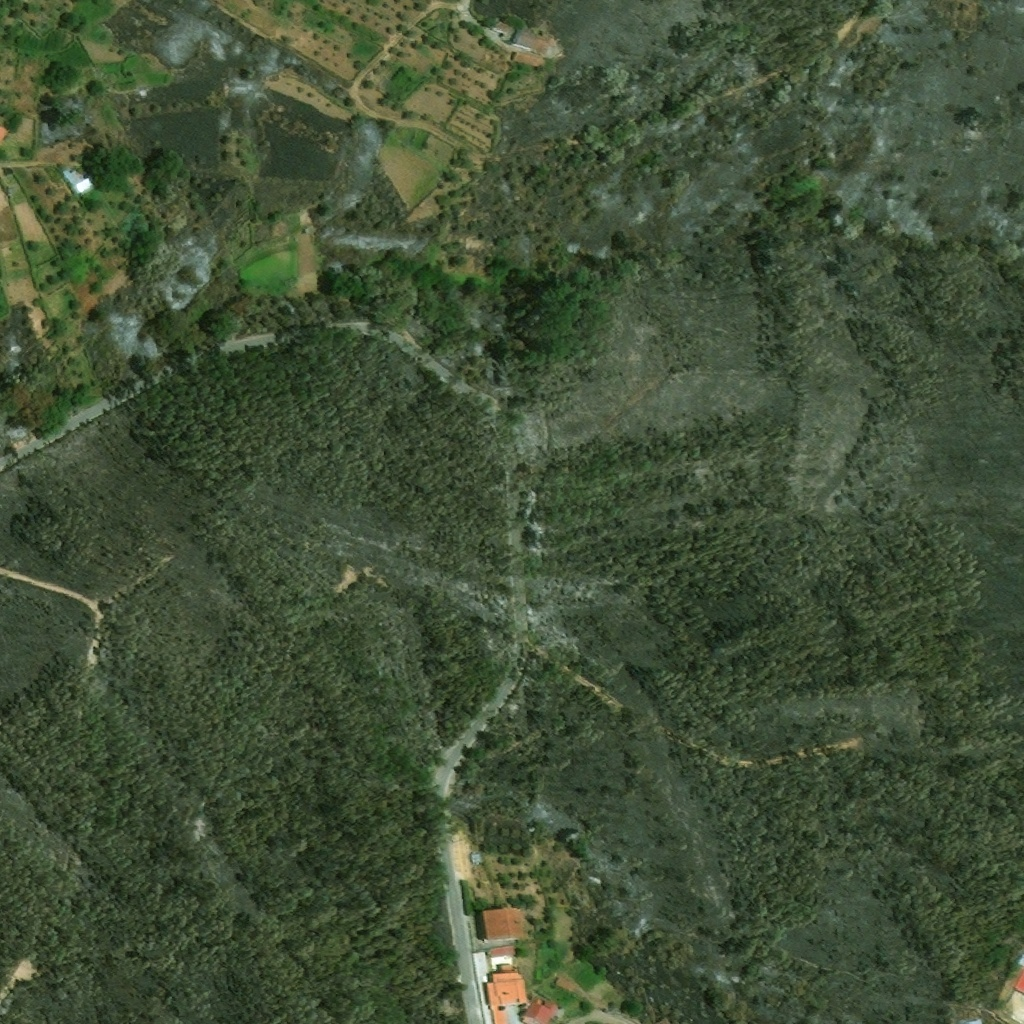0 no-damage: (482, 964, 529, 1023), (475, 907, 523, 943), (519, 992, 566, 1023), (510, 24, 555, 56), (62, 169, 93, 198), (510, 50, 547, 68), (493, 15, 516, 36), (554, 975, 577, 992), (485, 945, 514, 958), (468, 853, 481, 864)
4 un-classified: (1010, 966, 1023, 997), (0, 125, 11, 148)
